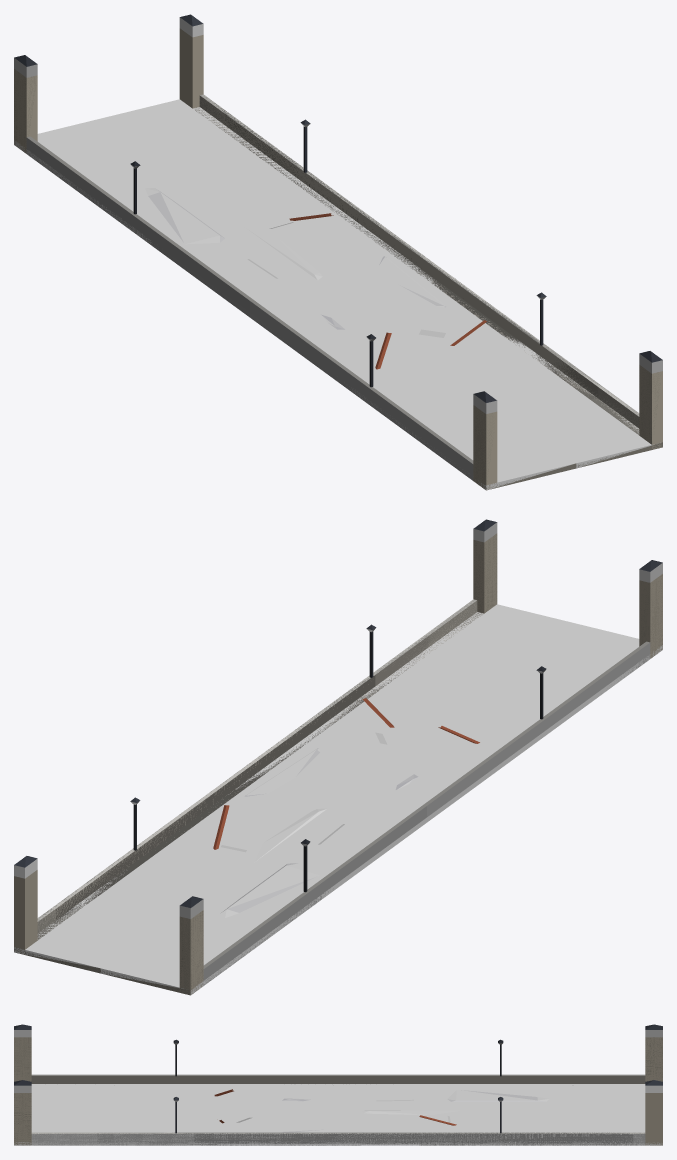
Rendered from bld_bridge_a.glb.
3 renders of one model, top to bottom at view 1: azimuth 30°, elevation 25°; view 2: azimuth 150°, elevation 25°; view 3: azimuth 270°, elevation 25°, orthographic. The views are drawn at different scales.
Visible parts, largest first — view 1: damaged, intact, chunk_01, chunk_15, chunk_14, chunk_00, chunk_09, chunk_08, chunk_13, chunk_03, rubble, chunk_06 (+7 smaller); view 2: damaged, chunk_15, chunk_01, chunk_00, chunk_14, chunk_08, intact, chunk_09, chunk_03, chunk_13, chunk_02, chunk_06 (+7 smaller); view 3: damaged, intact, chunk_00, chunk_08, chunk_14, chunk_01, chunk_15, chunk_02, chunk_09, chunk_06, rubble, chunk_12 (+7 smaller).
Boxes of the visible parts, bbox=[...] form: damaged: bbox=[14, 55, 662, 488]; intact: bbox=[179, 14, 662, 488]; chunk_01: bbox=[507, 365, 662, 468]; chunk_15: bbox=[104, 28, 252, 165]; chunk_14: bbox=[14, 69, 169, 192]; chunk_00: bbox=[418, 405, 576, 490]; chunk_09: bbox=[279, 221, 431, 297]; chunk_08: bbox=[198, 242, 349, 315]; chunk_13: bbox=[170, 146, 313, 210]; chunk_03: bbox=[450, 350, 587, 412]; rubble: bbox=[145, 188, 486, 369]; chunk_06: bbox=[276, 297, 404, 356]; damaged: bbox=[14, 519, 662, 994]; chunk_15: bbox=[14, 870, 166, 973]; chunk_01: bbox=[421, 533, 572, 673]; chunk_00: bbox=[504, 574, 662, 700]; chunk_14: bbox=[100, 910, 256, 995]; chunk_08: bbox=[276, 788, 436, 871]; intact: bbox=[14, 600, 483, 954]; chunk_09: bbox=[194, 768, 345, 843]; chunk_03: bbox=[364, 653, 502, 715]; chunk_13: bbox=[84, 857, 227, 919]; chunk_02: bbox=[446, 673, 593, 742]; chunk_06: bbox=[346, 748, 491, 814]; damaged: bbox=[14, 1024, 662, 1145]; intact: bbox=[31, 1080, 662, 1145]; chunk_00: bbox=[14, 1037, 109, 1112]; chunk_08: bbox=[325, 1084, 431, 1112]; chunk_14: bbox=[572, 1037, 662, 1112]; chunk_01: bbox=[14, 1093, 109, 1145]; chunk_15: bbox=[572, 1093, 662, 1145]; chunk_02: bbox=[109, 1084, 188, 1112]; chunk_09: bbox=[325, 1113, 431, 1145]; chunk_06: bbox=[249, 1084, 325, 1112]; rubble: bbox=[214, 1089, 549, 1145]; chunk_12: bbox=[488, 1084, 571, 1112].
Size of the model in its own units: 16.12 by 8 by 74.
